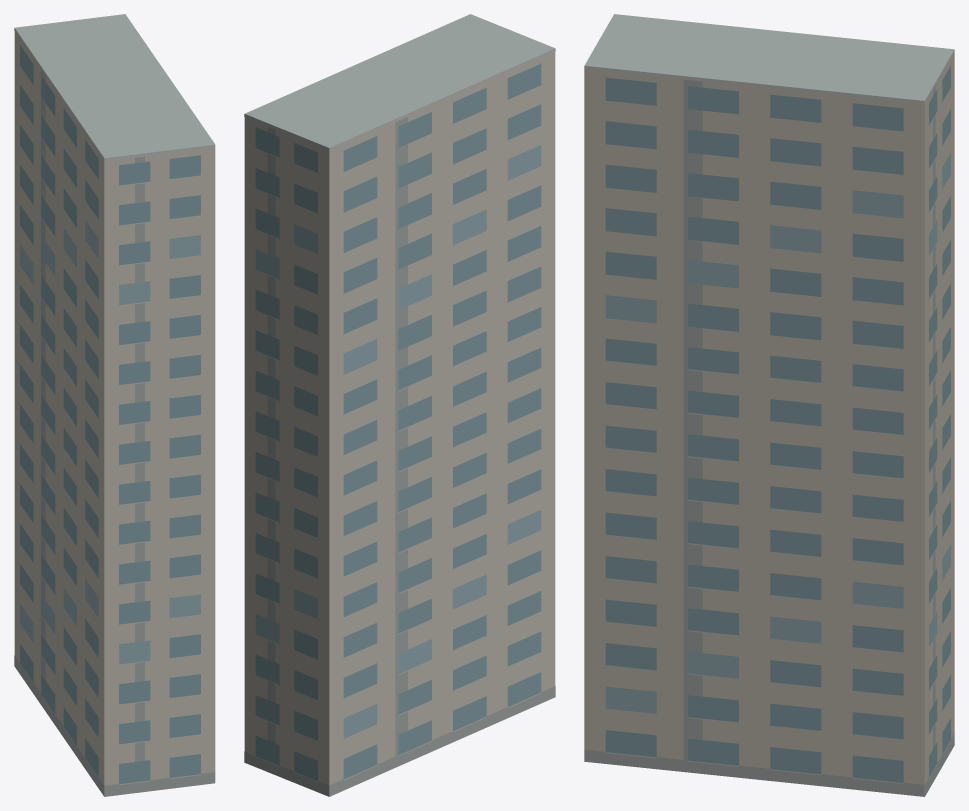
Rendered from residential-3b61b372-093d-4335-b28d-1f08b28f0026.glb.
The picture shows the model from 3 angles, left to right: view 1: azimuth 30°, elevation 25°; view 2: azimuth 150°, elevation 25°; view 3: azimuth 270°, elevation 25°; orthographic projection. The views are drawn at different scales.
Visible parts, largest first — view 1: residential-3b61b372-093d-4335-b28d-1f08b28f0026.tmp; view 2: residential-3b61b372-093d-4335-b28d-1f08b28f0026.tmp; view 3: residential-3b61b372-093d-4335-b28d-1f08b28f0026.tmp.
Part boxes in pixels (x1,y1,x2,y2): residential-3b61b372-093d-4335-b28d-1f08b28f0026.tmp: (14,14,215,796); residential-3b61b372-093d-4335-b28d-1f08b28f0026.tmp: (244,14,555,796); residential-3b61b372-093d-4335-b28d-1f08b28f0026.tmp: (584,14,954,796).
Bounding box in the file's own units: 12.6 × 47 × 22.68.
